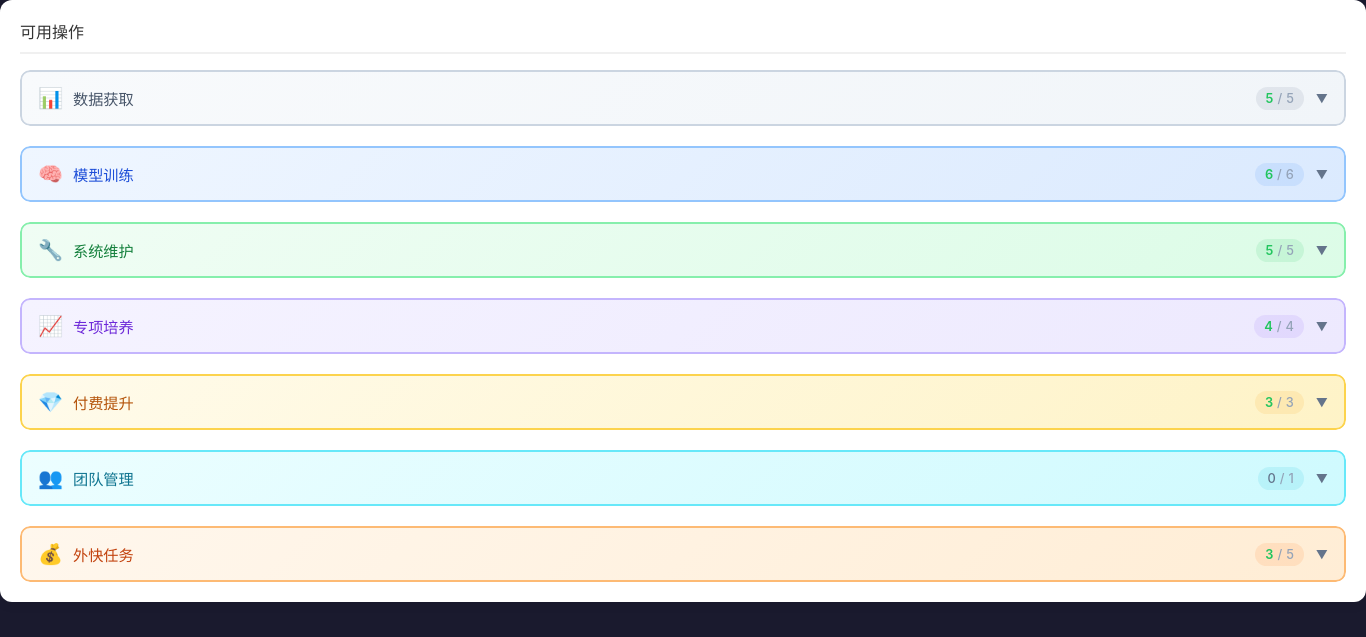
Scenario: OperationsPanel › 点击类别标题应该展开该类别
# 点击数据获取类别
Click the text "数据获取". click: click(103, 100)
box: [73,90,134,109]
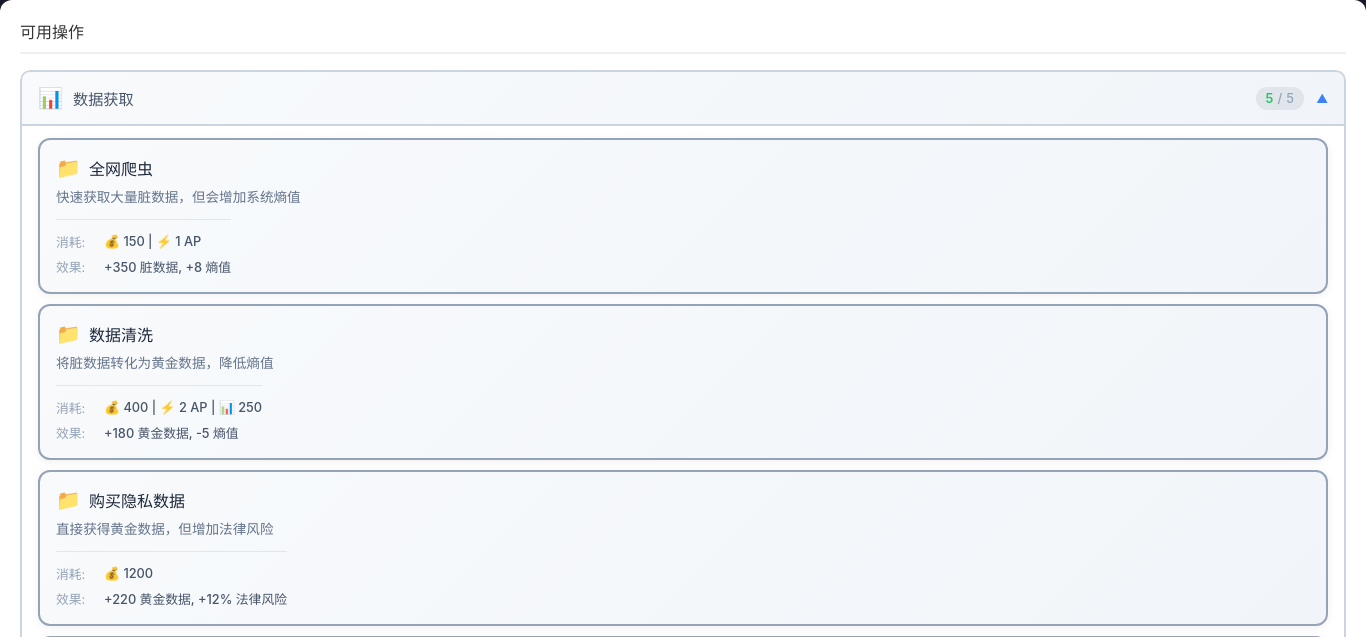
Expected: the text "全网爬虫" is shown, [89,156,153,180]
Expected: the text "数据清洗" is shown, [89,322,153,346]
Expected: the text "购买隐私数据" is shown, [89,488,185,512]
